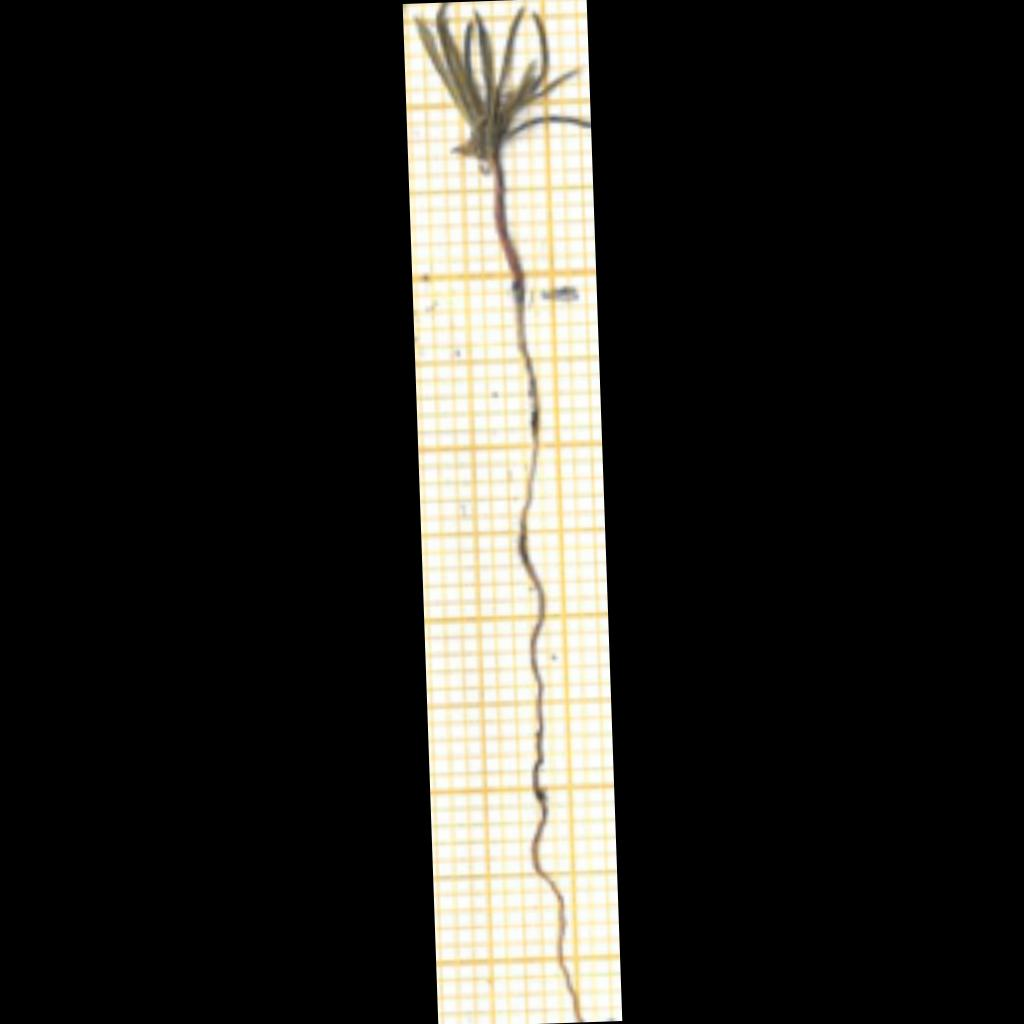flowerPinus: (416, 3, 590, 167)
rootPinus: (513, 291, 582, 1022)
stemPinus: (493, 159, 524, 293)
